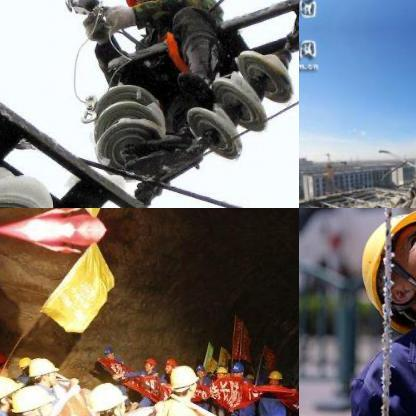Helmet: (370, 208, 415, 313), (8, 379, 58, 415), (86, 377, 130, 415), (114, 0, 188, 18), (168, 363, 196, 399), (28, 355, 56, 384), (0, 375, 18, 408), (266, 368, 282, 386), (161, 355, 175, 373), (212, 362, 226, 380), (142, 356, 156, 372), (192, 360, 206, 376), (229, 359, 241, 375), (102, 345, 115, 359), (0, 349, 7, 374)
